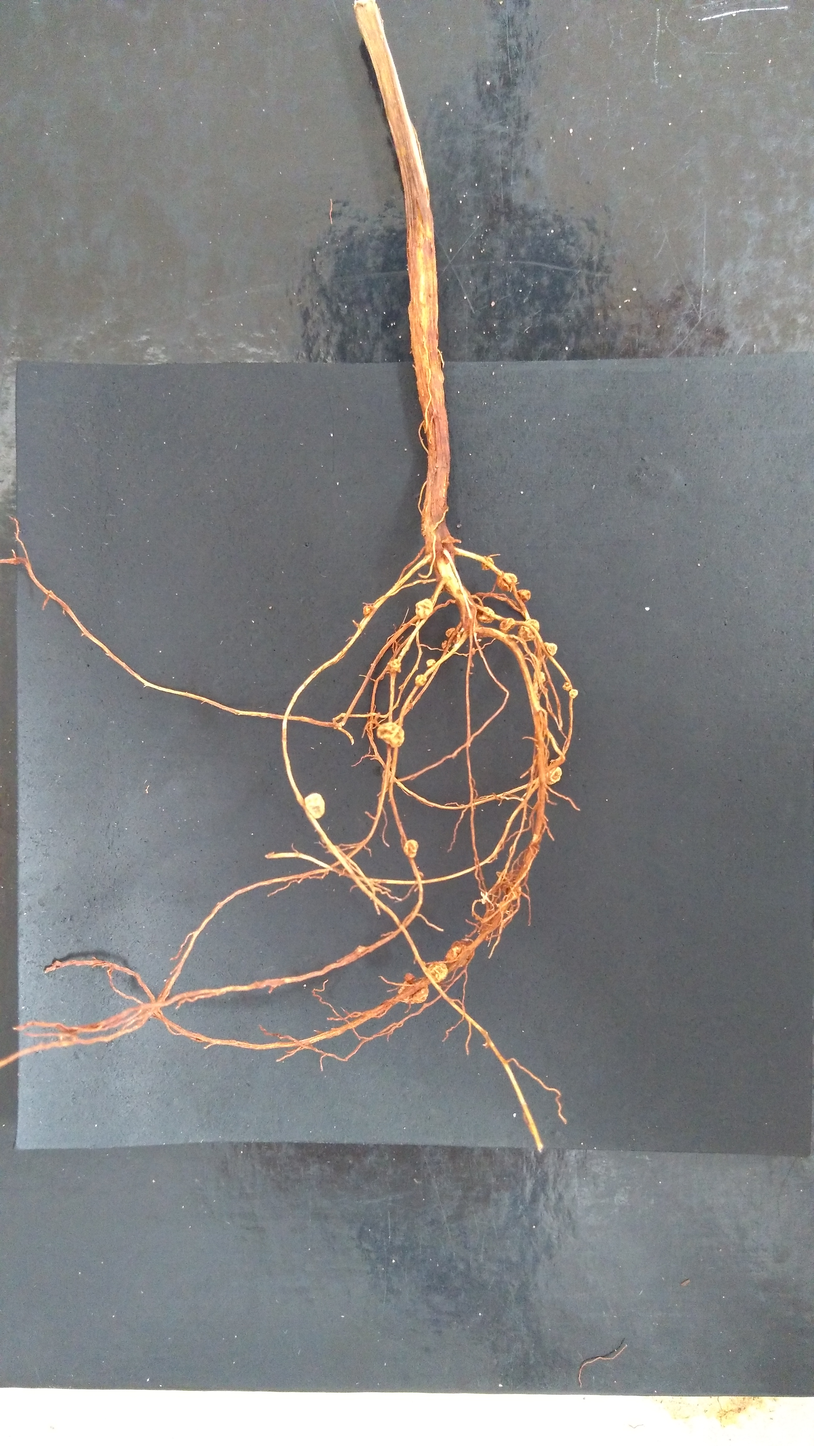nodule: (397, 972, 429, 1005), (444, 938, 476, 971), (376, 721, 405, 748), (303, 792, 326, 819), (518, 617, 541, 644), (494, 571, 518, 594), (427, 961, 449, 983), (414, 597, 434, 619), (477, 605, 495, 625), (547, 765, 563, 786), (498, 616, 517, 633), (403, 839, 419, 858), (386, 658, 402, 674), (516, 588, 532, 603), (507, 886, 522, 901), (545, 642, 559, 657), (414, 674, 427, 687), (568, 688, 579, 699), (498, 900, 508, 912), (445, 627, 456, 637), (562, 681, 572, 692), (452, 632, 461, 644), (425, 658, 436, 667), (362, 605, 371, 615), (540, 671, 546, 683), (442, 639, 447, 650), (471, 647, 476, 655), (544, 642, 549, 649)
